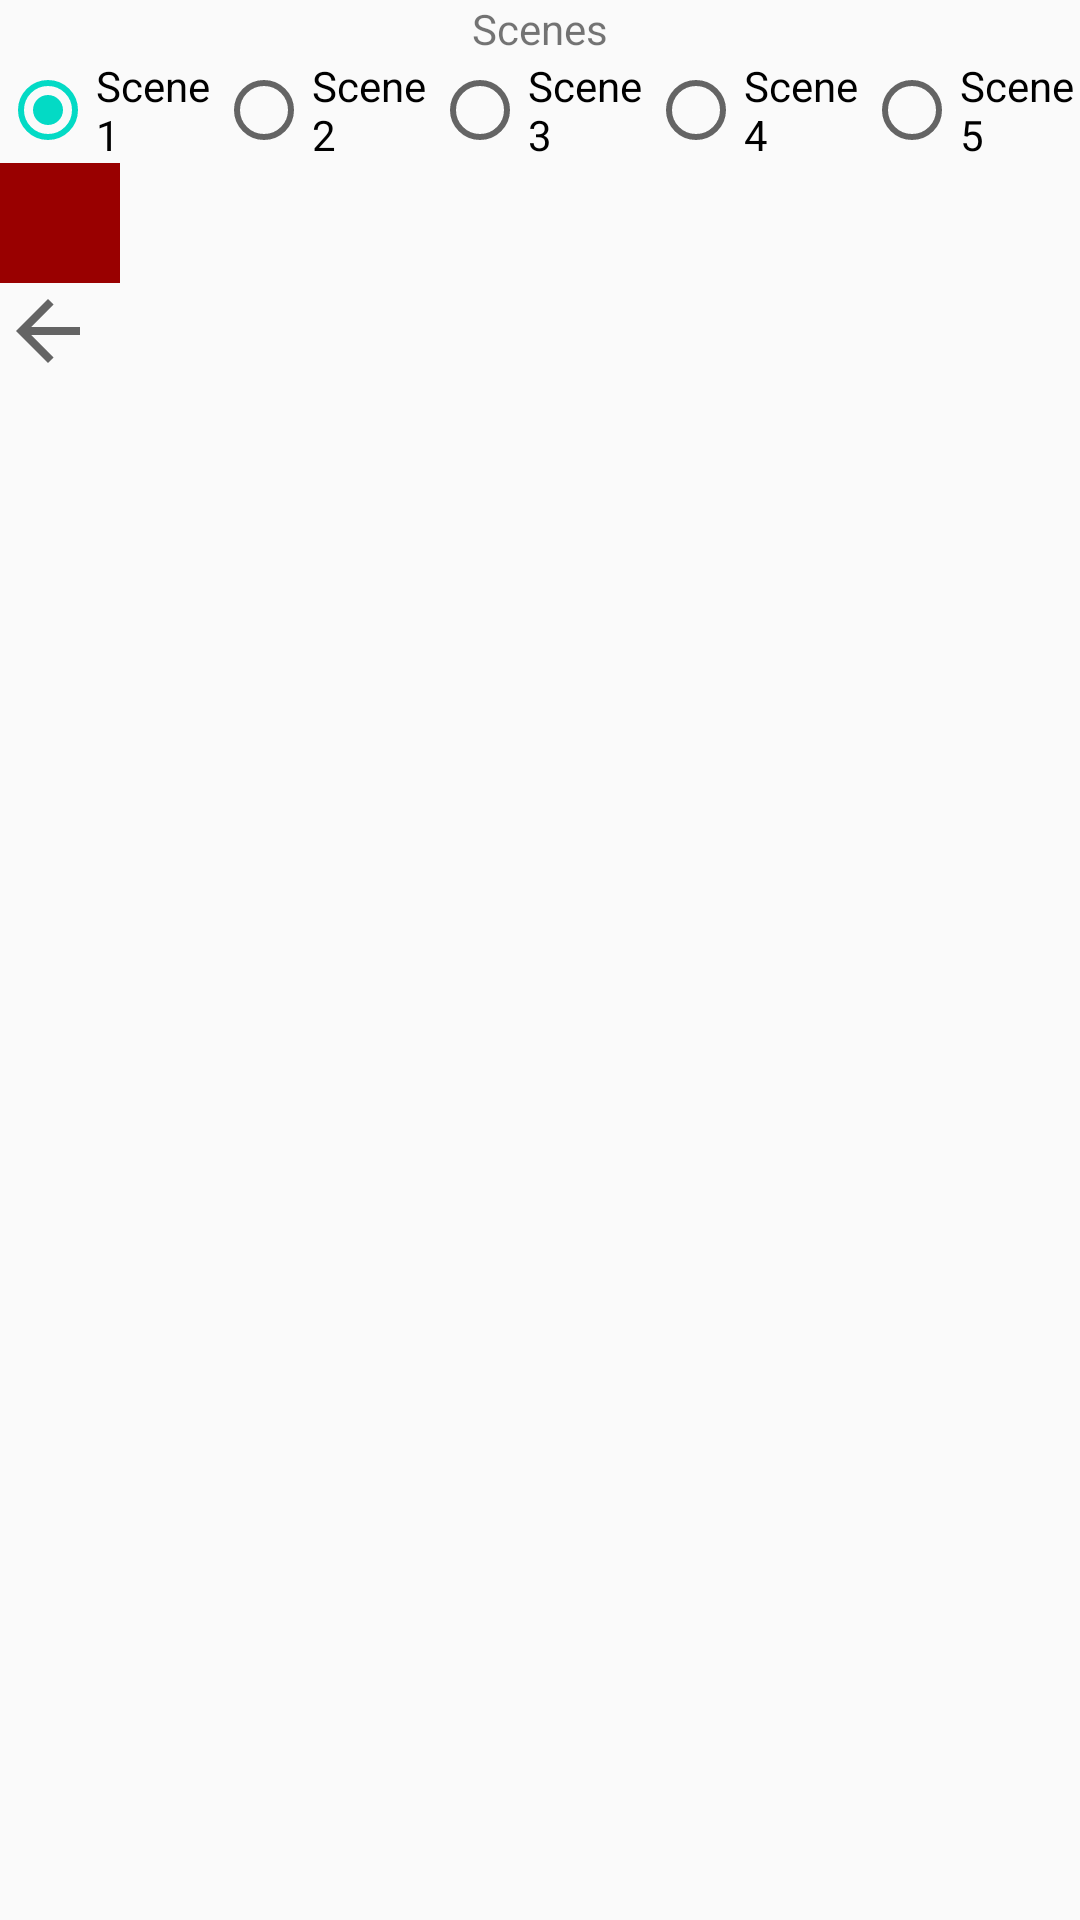

Icon bounding boxes for this 1080*1920 phone screenshot, format (x1, y1, x2, y2):
ab back: (16, 299, 80, 363)
